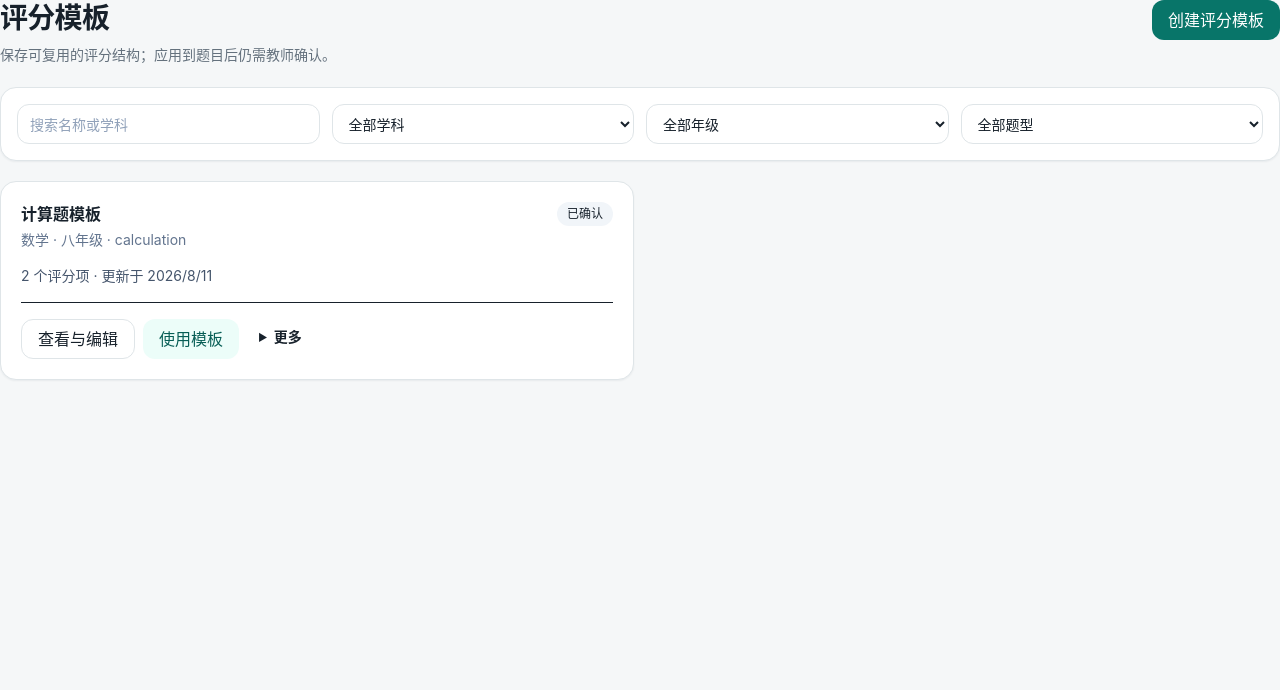
RubricsPage › shows visible history, copy and archive entries
The image size is (1280, 690).
Click the heading "更多".
click(288, 337)  # box [274,328,302,345]
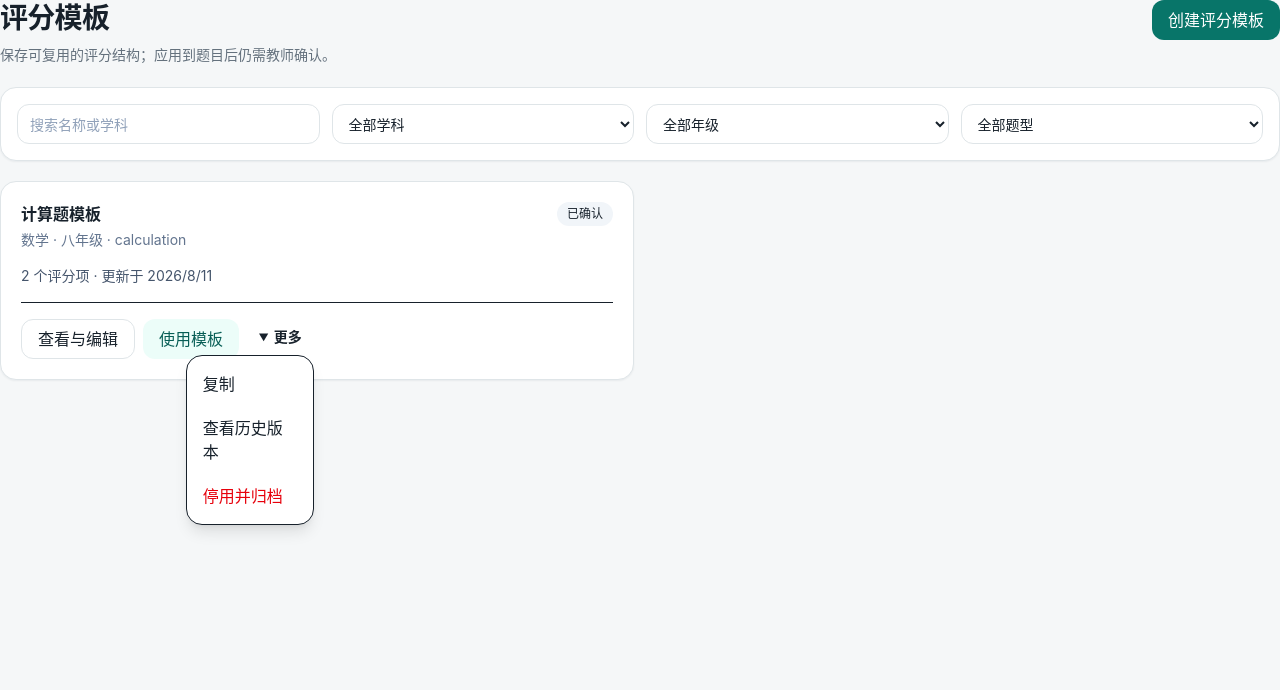
Now the button "复制" is shown, box [195,364,305,404]
Now the button "停用并归档" is shown, box [195,476,305,516]
Click the button "查看历史版本".
click(250, 440)  # box [195,408,305,472]
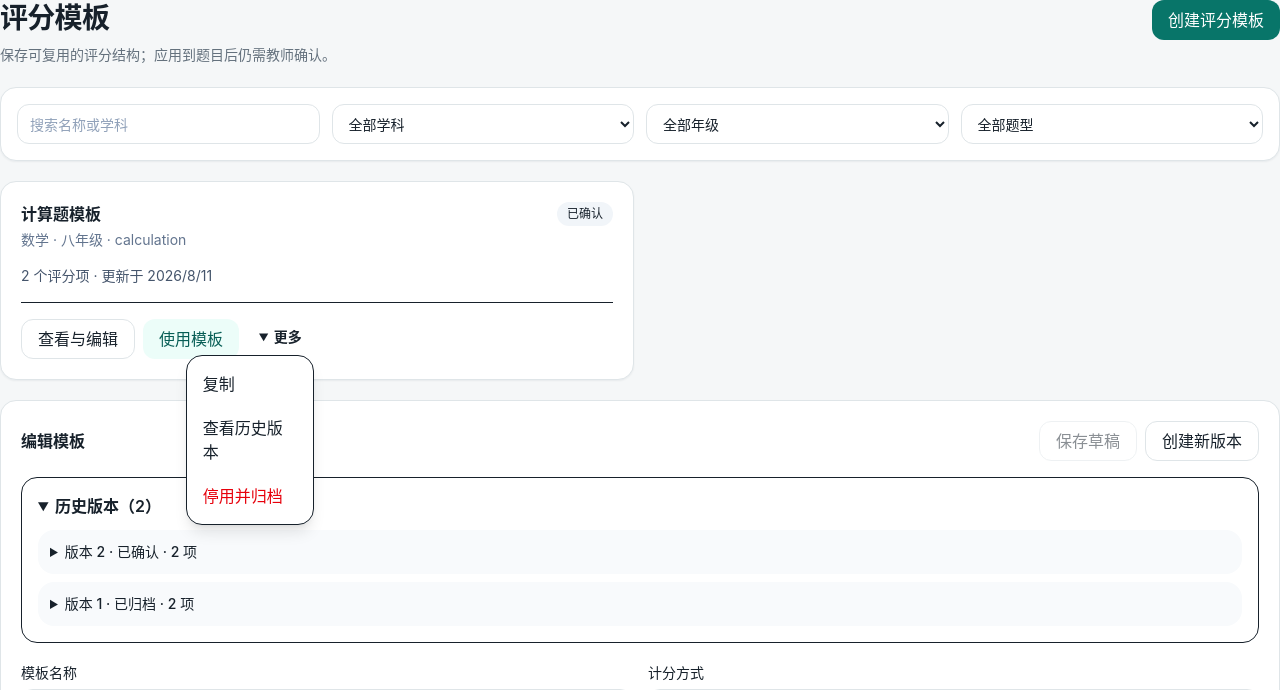
Now the heading "历史版本（2）" is shown, box [55,496,161,516]
Now the heading "版本 2 · 已确认 · 2 项" is shown, box [65,543,197,560]
Now the heading "版本 1 · 已归档 · 2 项" is shown, box [65,595,194,612]
